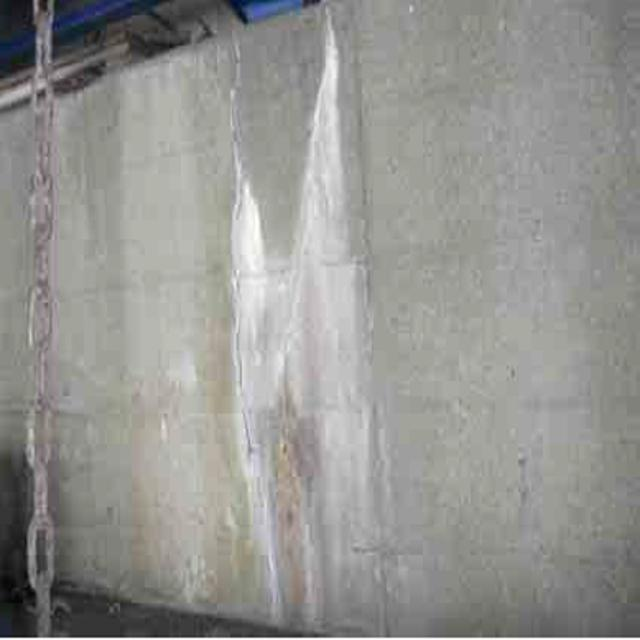freelime: (223, 39, 387, 607)
